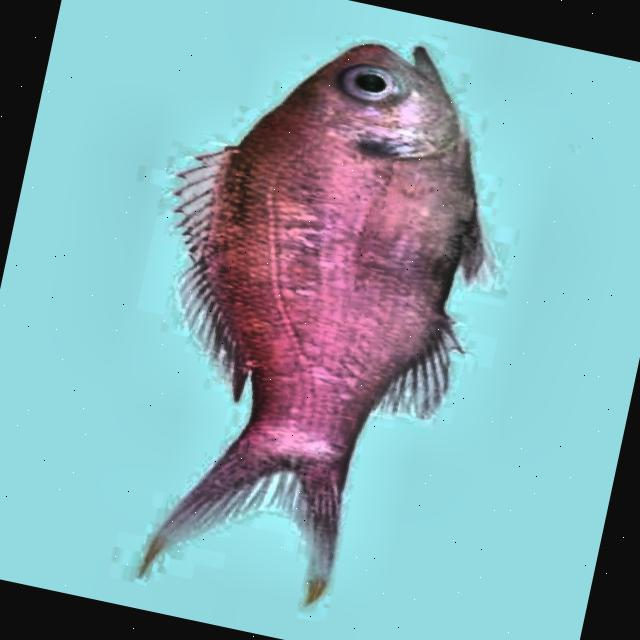fish: (89, 0, 542, 637)
